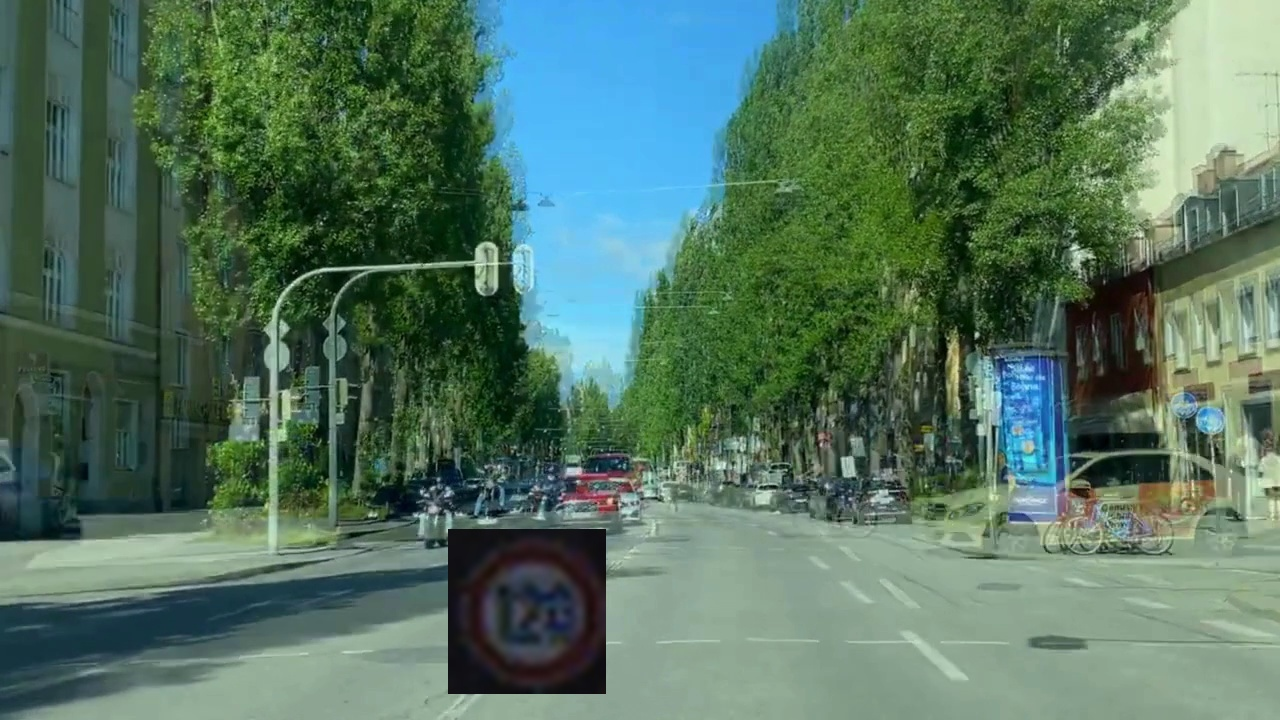Speed 120: (448, 529, 606, 694)
